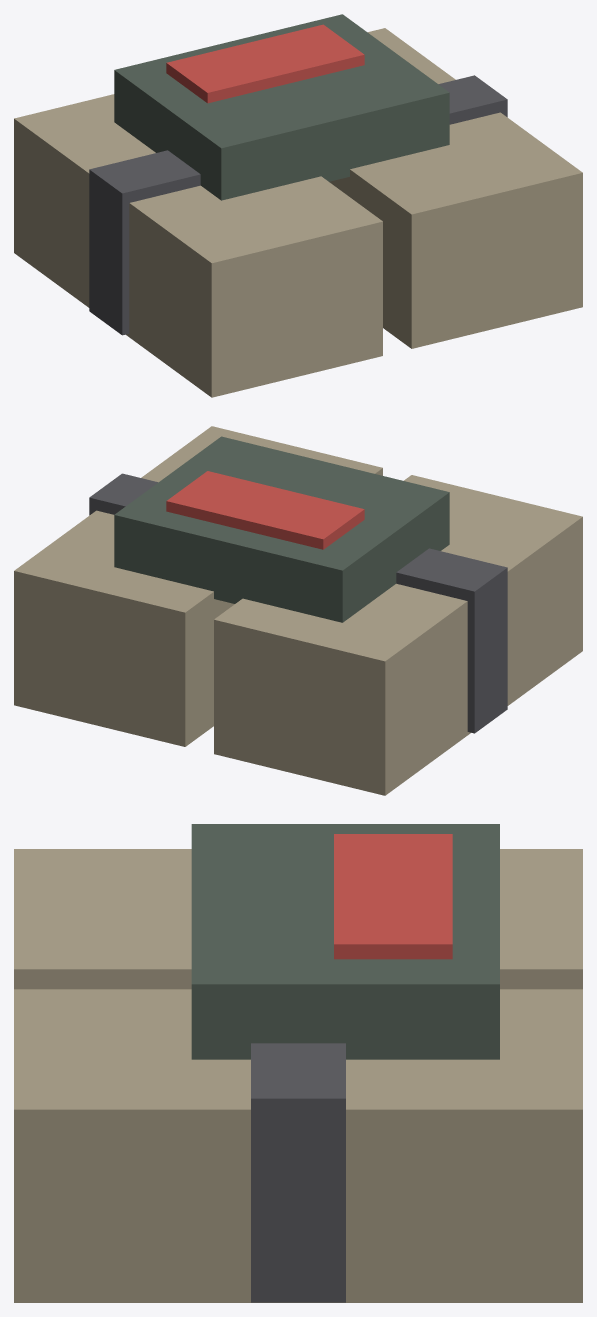
The picture shows the model from 3 angles, top to bottom: view 1: azimuth 30°, elevation 25°; view 2: azimuth 150°, elevation 25°; view 3: azimuth 270°, elevation 25°; orthographic projection. The views are drawn at different scales.
Parts seen in each view (by area): view 1: c4; view 2: c4; view 3: c4.
Boxes of the visible parts, x1,y1,x2,y2 form: c4: (14,14,582,397); c4: (14,426,582,795); c4: (14,824,582,1302).
Size of the model in its own units: 0.27 by 0.132 by 0.24.
